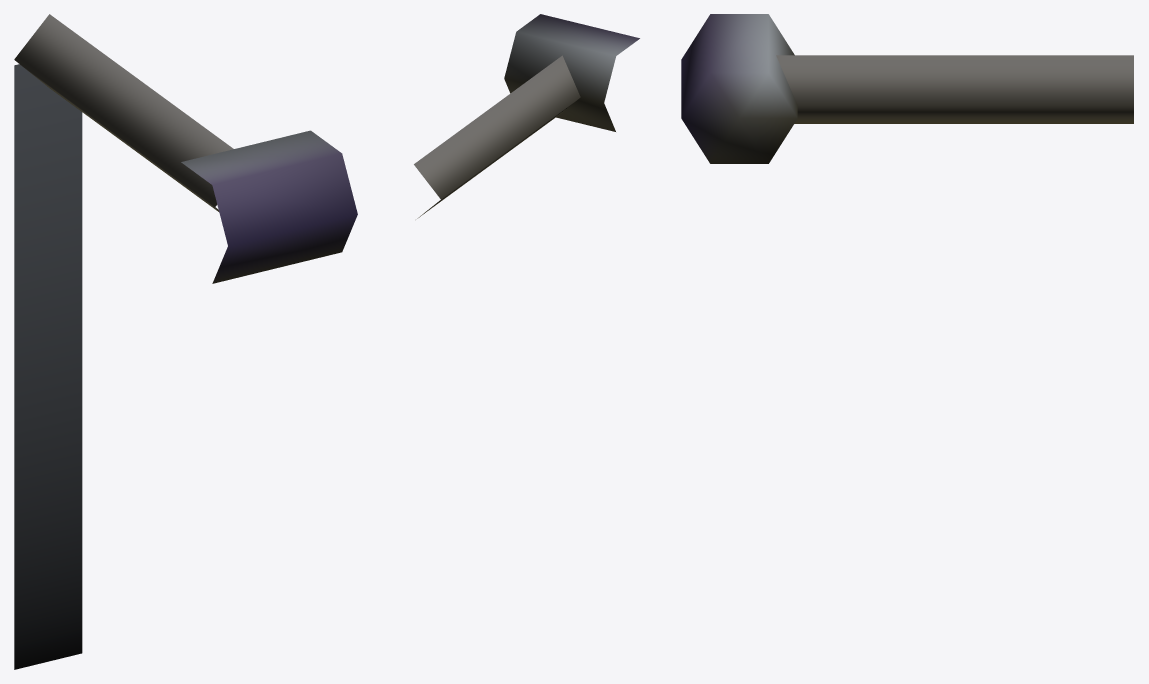
The model's file is FootholdRight.gltf.
The picture shows the model from 3 angles, left to right: view 1: azimuth 30°, elevation 25°; view 2: azimuth 150°, elevation 25°; view 3: azimuth 270°, elevation 25°; orthographic projection. The views are drawn at different scales.
Parts seen in each view (by area): view 1: FootholdRightMesh; view 2: FootholdRightMesh; view 3: FootholdRightMesh.
Part boxes in pixels (left/top/right/bottom): FootholdRightMesh: left=14, top=14, right=357, bottom=669; FootholdRightMesh: left=414, top=14, right=639, bottom=218; FootholdRightMesh: left=681, top=14, right=1133, bottom=163.
Bounding box in the file's own units: 0.1988 × 0.9654 × 0.6491.
